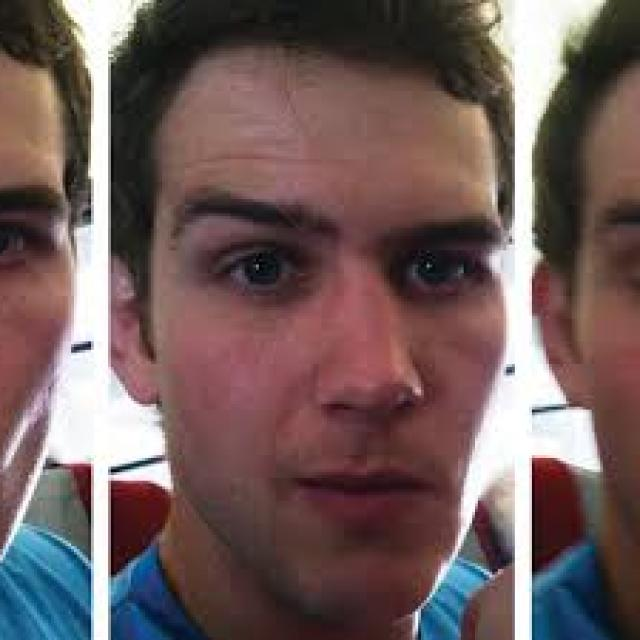normal_face: (90, 8, 535, 618)
